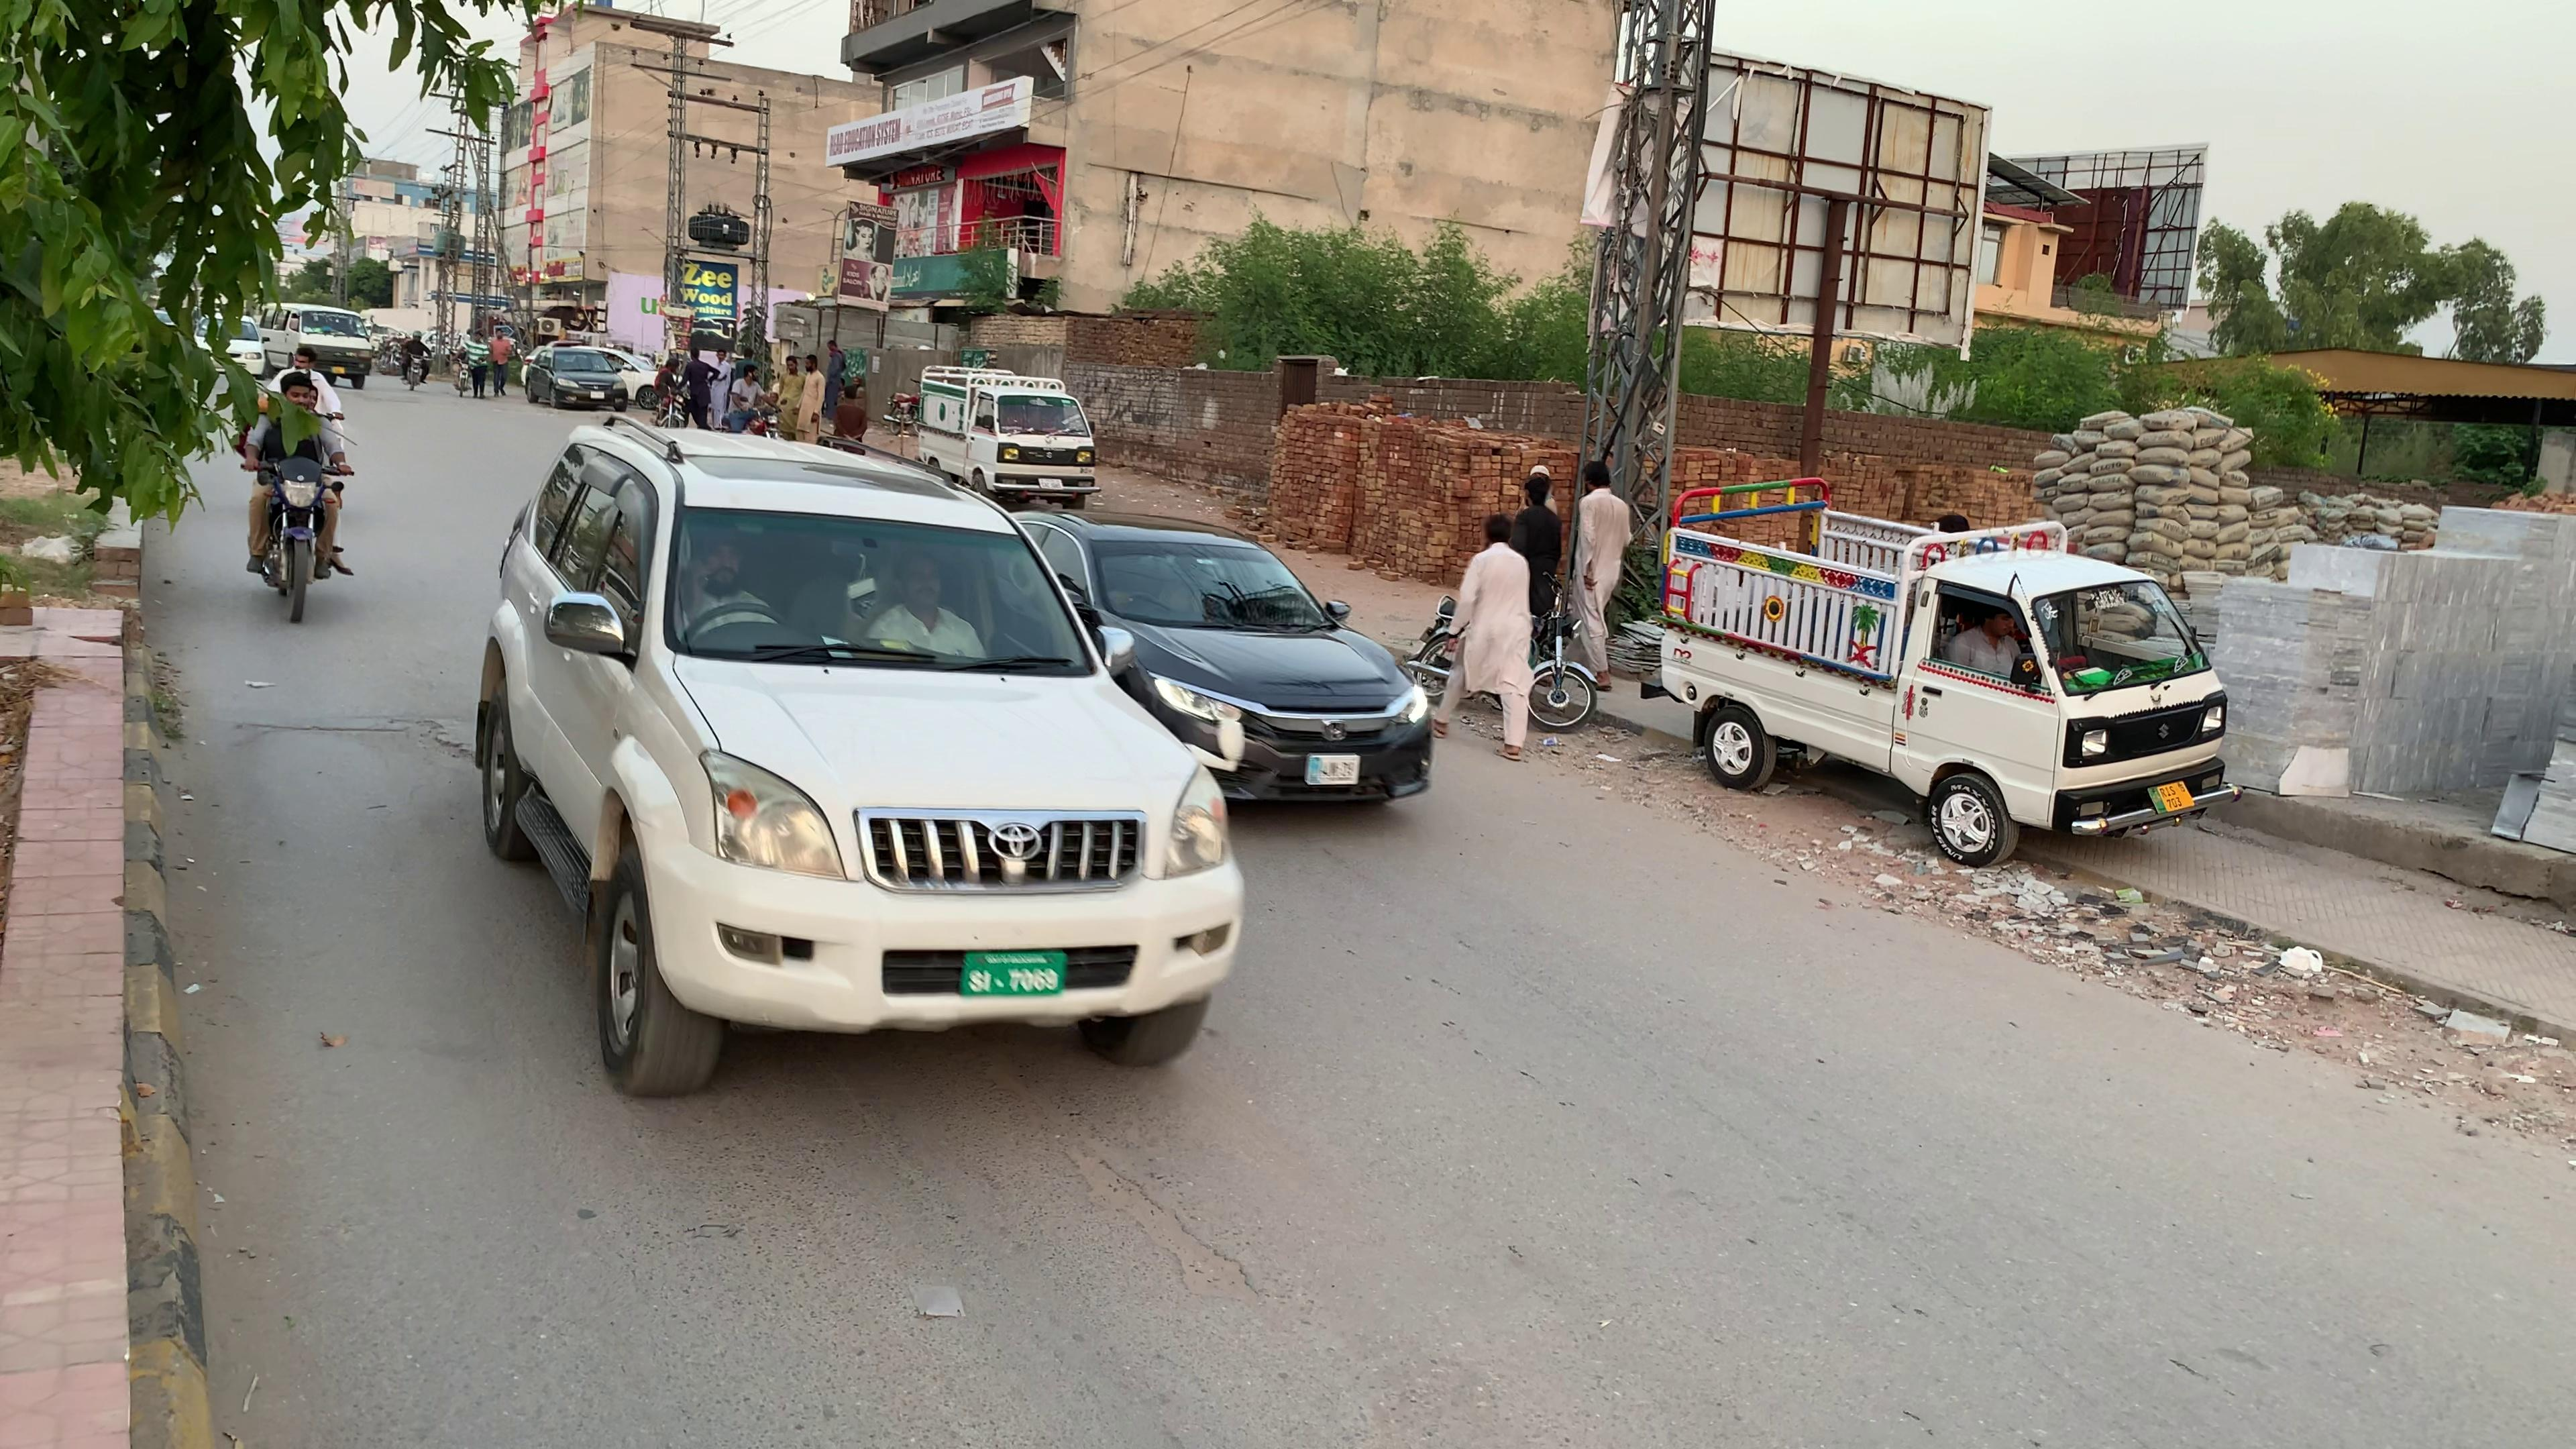windshield: (658, 490, 1111, 685), (1083, 534, 1348, 632)
